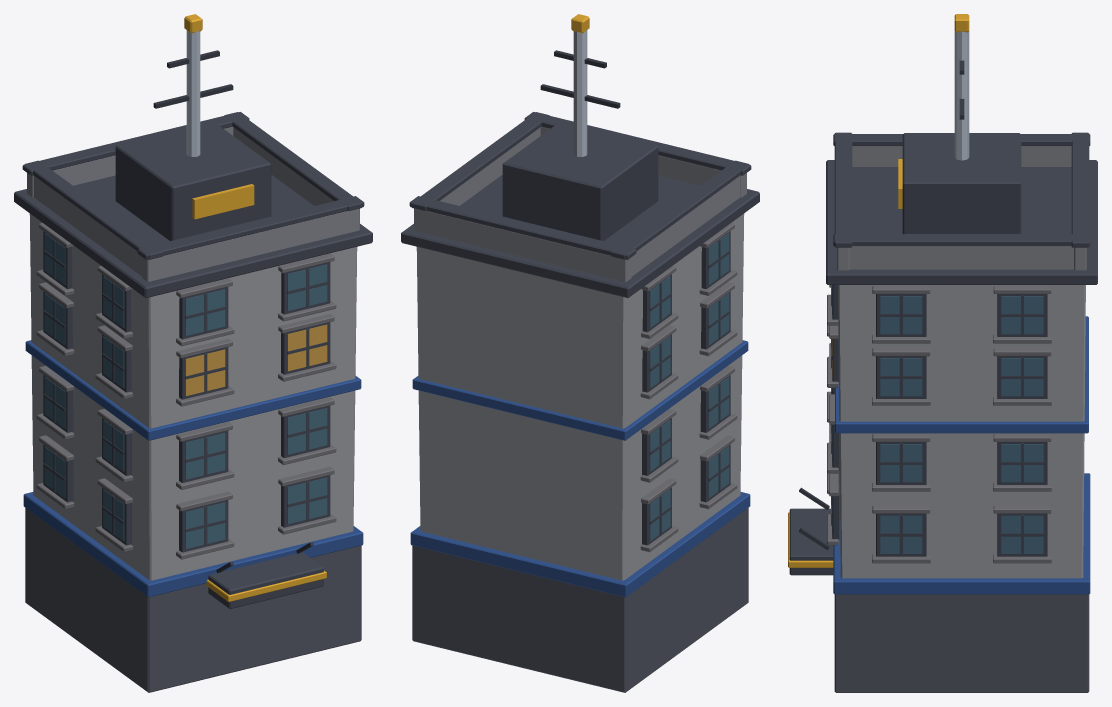
The model's file is Stylized_Apoc_Building_03_Narrow_Signal_Tower.fbx.
The picture shows the model from 3 angles, left to right: view 1: azimuth 30°, elevation 25°; view 2: azimuth 150°, elevation 25°; view 3: azimuth 270°, elevation 25°; orthographic projection. The views are drawn at different scales.
Visible parts, largest first — view 1: Stylized_Apoc_Building_03_Narrow_Signal_Tower; view 2: Stylized_Apoc_Building_03_Narrow_Signal_Tower; view 3: Stylized_Apoc_Building_03_Narrow_Signal_Tower.
Boxes of the visible parts, x1=… form: Stylized_Apoc_Building_03_Narrow_Signal_Tower: x1=14, y1=14, x2=372, y2=692; Stylized_Apoc_Building_03_Narrow_Signal_Tower: x1=401, y1=14, x2=759, y2=692; Stylized_Apoc_Building_03_Narrow_Signal_Tower: x1=788, y1=14, x2=1097, y2=692.
Size of the model in its own units: 5.16 by 13.06 by 5.88.
